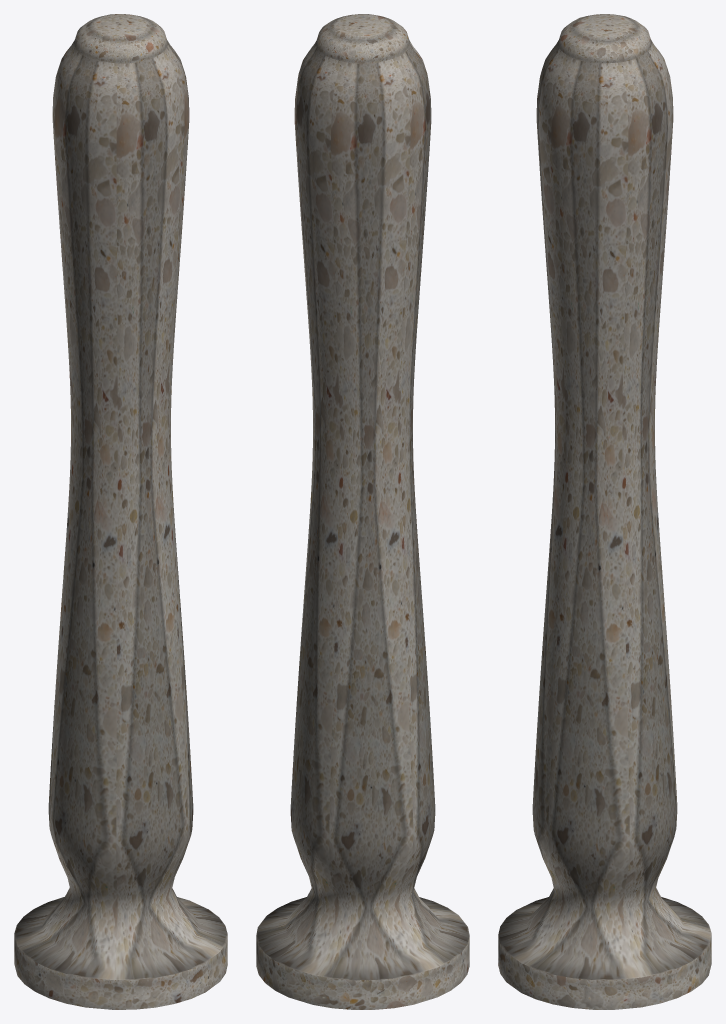
File: tower.dae
3 views of the same model, side by side, from view 1: azimuth 30°, elevation 25°; view 2: azimuth 150°, elevation 25°; view 3: azimuth 270°, elevation 25° (orthographic).
Visible parts, largest first — view 1: Test 2; view 2: Test 2; view 3: Test 2.
Boxes of the visible parts, <box> form: Test 2: <box>14,14,227,1009</box>; Test 2: <box>256,14,469,1009</box>; Test 2: <box>498,14,711,1009</box>.
Bounding box in the file's own units: 2.66 × 2.66 × 12.93.
Materials: 1 (1 with a texture image).
